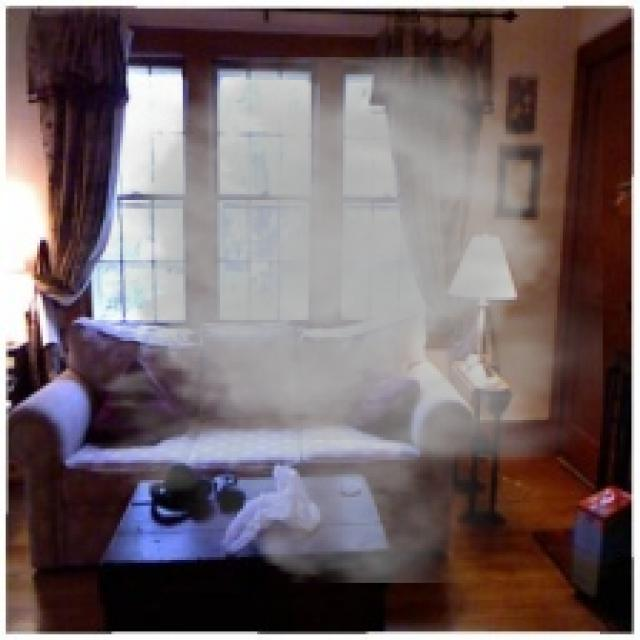smoke: (37, 23, 603, 583)
